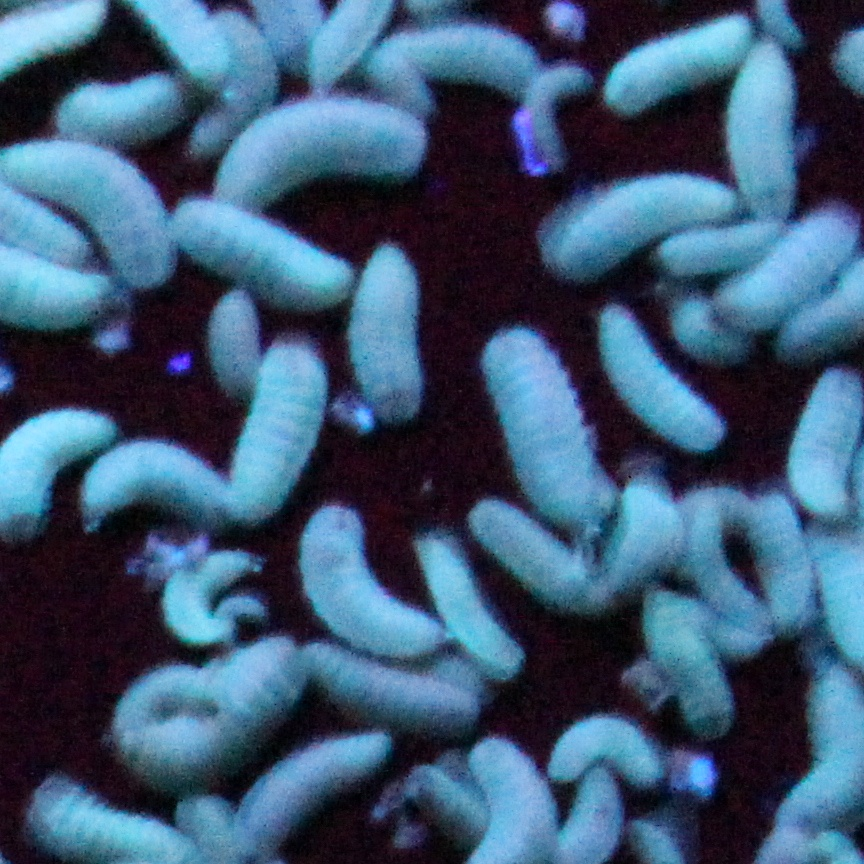larve: (483, 321, 605, 522), (540, 168, 720, 289), (234, 100, 423, 215), (594, 306, 732, 450), (176, 203, 344, 313), (2, 149, 169, 259), (289, 514, 416, 643), (245, 733, 383, 851), (229, 343, 324, 511), (132, 659, 277, 768), (419, 538, 532, 669), (736, 212, 860, 329), (631, 595, 738, 730), (617, 18, 755, 118), (355, 240, 427, 429), (732, 42, 802, 223), (304, 651, 460, 729), (82, 440, 222, 525), (381, 26, 543, 98), (39, 786, 176, 864), (783, 370, 855, 514), (477, 513, 590, 600), (747, 493, 806, 626), (56, 86, 191, 141), (175, 548, 250, 640), (683, 494, 743, 606), (616, 479, 668, 595), (550, 728, 658, 781)
